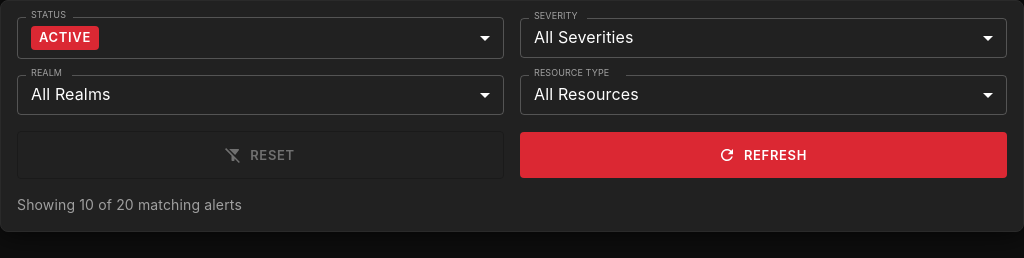
Scenario: AlertsFilters › should render unique realms in dropdown
This screenshot has width=1024, height=258.
Click the dropdown labelled "All Realms".
click(71, 94)  # box [31,84,111,104]
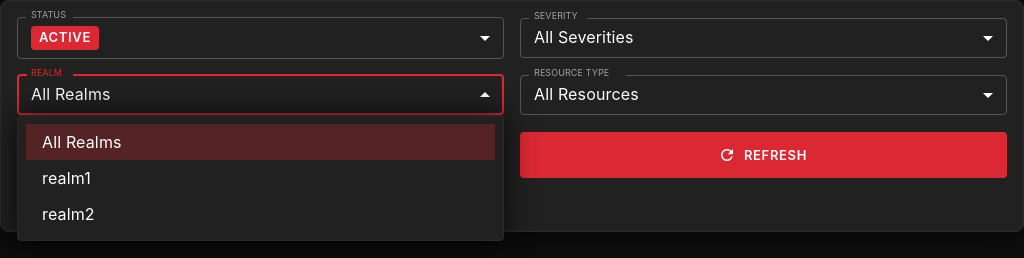
Expected: the option "realm1" is shown, [42,168,91,188]
Expected: the option "realm2" is shown, [42,204,95,224]
